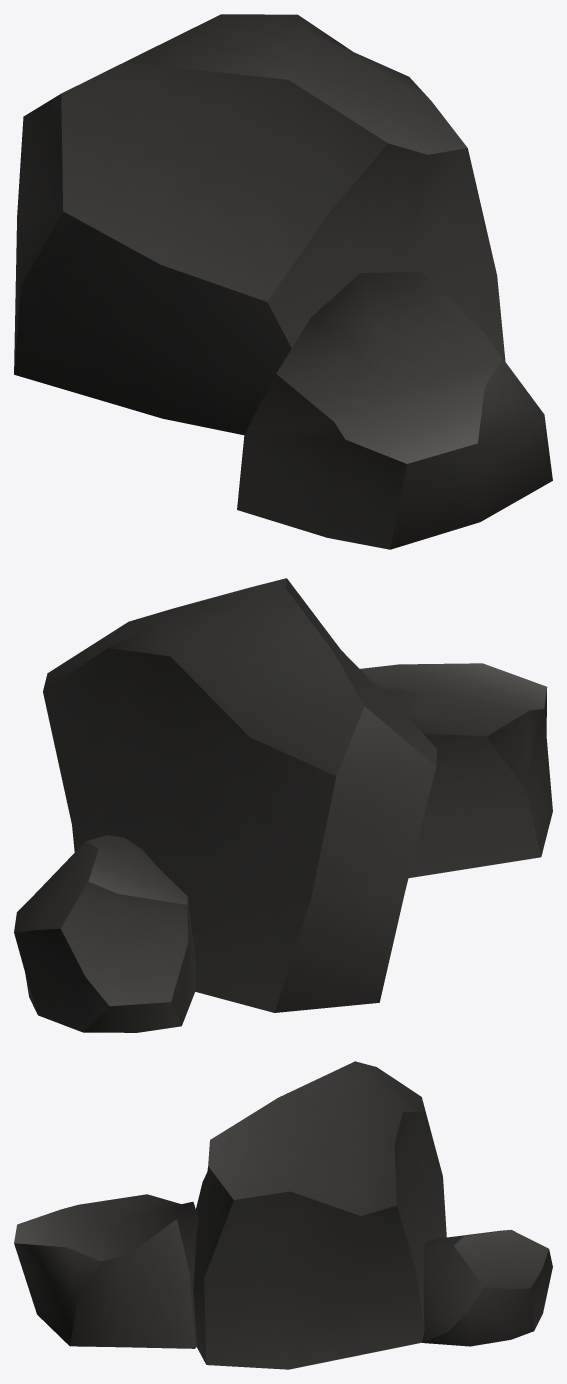
The model's file is Batu_Besar.fbx.
3 renders of one model, top to bottom at view 1: azimuth 30°, elevation 25°; view 2: azimuth 150°, elevation 25°; view 3: azimuth 270°, elevation 25°, orthographic. The views are drawn at different scales.
Visible parts, largest first — view 1: Batu, Rock_6; view 2: Batu, Rock_4, Rock_6; view 3: Batu, Rock_6, Rock_4.
Part boxes in pixels (box(x1,y1,x2,y2)): Batu: box(14, 14, 505, 435); Rock_6: box(237, 271, 552, 549); Batu: box(43, 578, 436, 1012); Rock_4: box(14, 835, 196, 1032); Rock_6: box(360, 663, 552, 877); Batu: box(193, 1061, 446, 1369); Rock_6: box(14, 1194, 198, 1348); Rock_4: box(422, 1229, 552, 1346).
Size of the model in its own units: 262 by 210 by 480.
